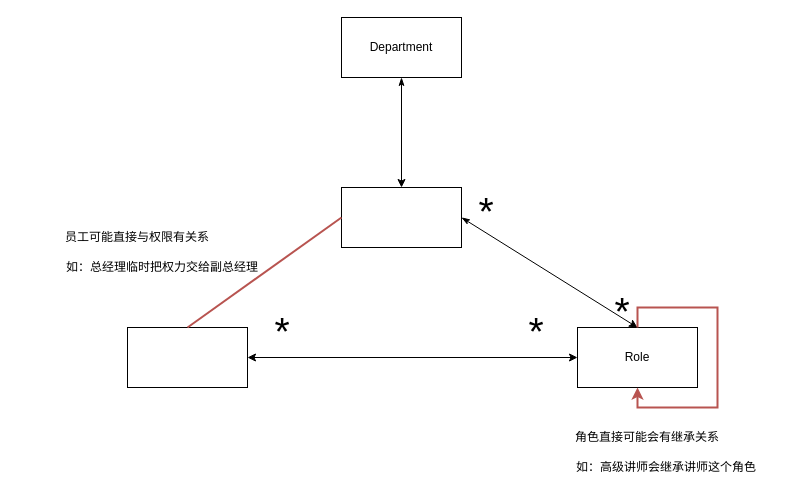
The diagram is 788 pixels wide and 495 high, and some of its shapes have lost their labels. The box of each missing label's shape, as (x1, y1, x2, y2) in pixels:
Employee: (340, 186, 462, 248)
Permission: (126, 326, 248, 388)
